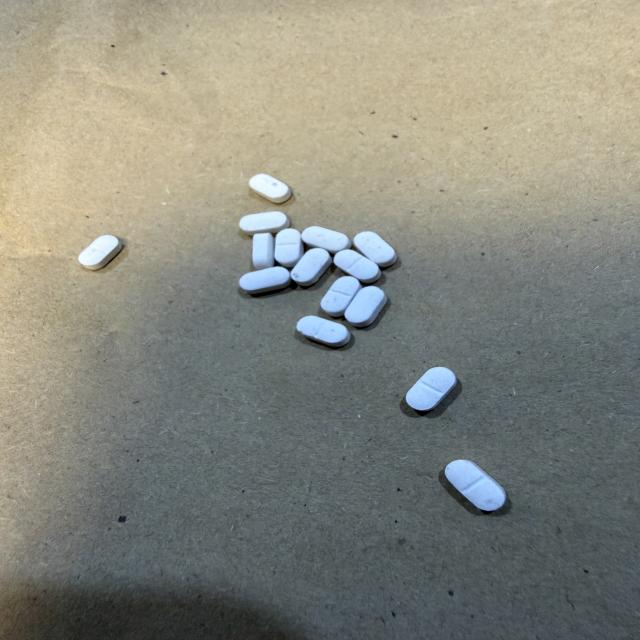pill: (445, 460, 506, 511), (406, 367, 456, 410), (345, 287, 387, 327), (321, 276, 361, 316), (297, 316, 350, 346), (334, 250, 381, 283), (291, 248, 331, 286), (354, 232, 396, 267), (79, 235, 122, 269), (239, 267, 291, 294), (302, 227, 351, 253), (249, 174, 292, 203), (239, 212, 289, 235), (275, 229, 303, 268), (252, 233, 275, 270)
